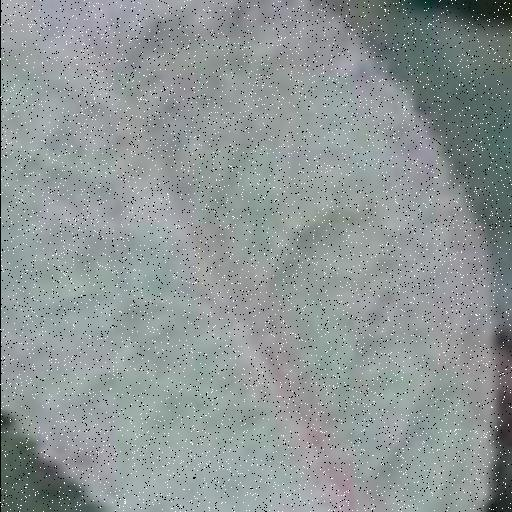powdery_mildew: (0, 0, 494, 512)
